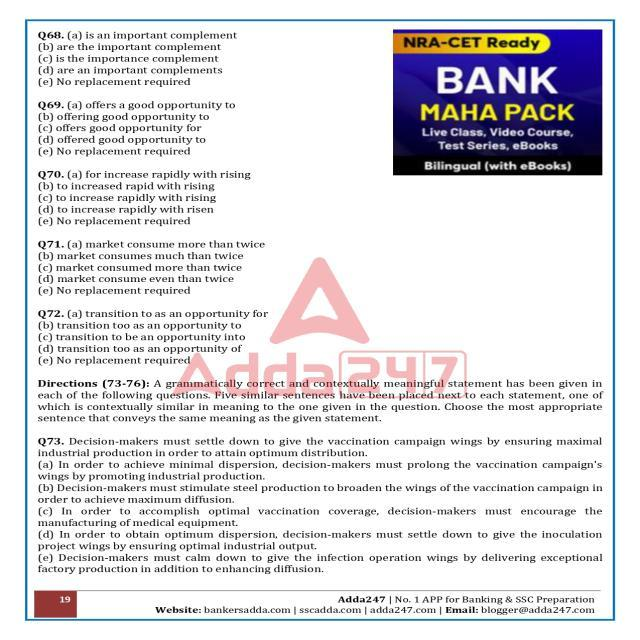Answer_Block: (32, 426, 608, 576), (32, 164, 608, 232), (32, 234, 608, 301), (32, 94, 608, 160), (32, 303, 608, 368), (32, 26, 608, 90)
Question_Answer_Block: (32, 426, 608, 576), (32, 164, 608, 232), (32, 234, 608, 301), (32, 94, 608, 160), (32, 303, 608, 368), (32, 26, 608, 90)
Question_Block: (32, 426, 608, 576), (32, 164, 608, 232), (32, 234, 608, 301), (32, 94, 608, 160), (32, 303, 608, 368), (32, 26, 608, 90)
Question_Paper_Area: (32, 26, 608, 586)
